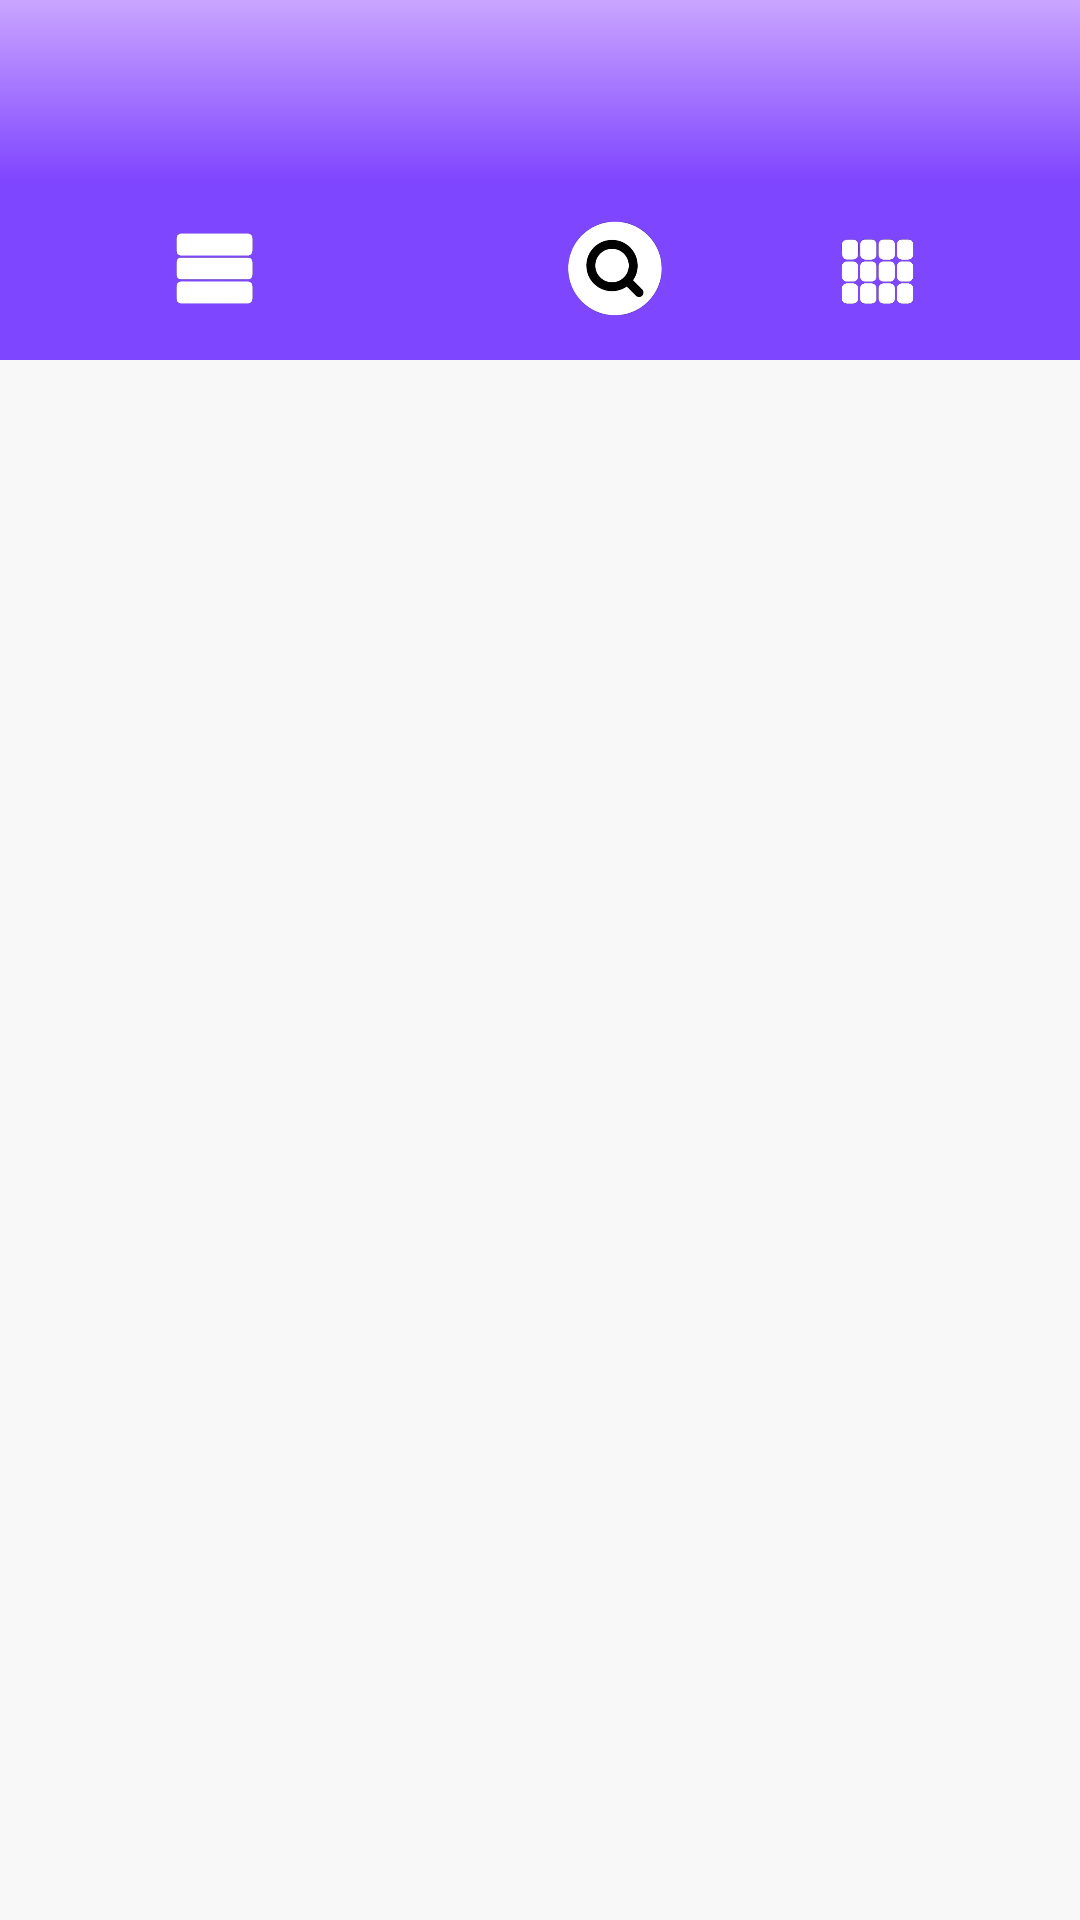

Icons on this 1080px x 1920px Android screen, each with its box as region(x1, y1, x2, y2):
gridd: region(841, 239, 913, 304)
list: region(176, 233, 253, 304)
search: region(568, 221, 662, 315)
